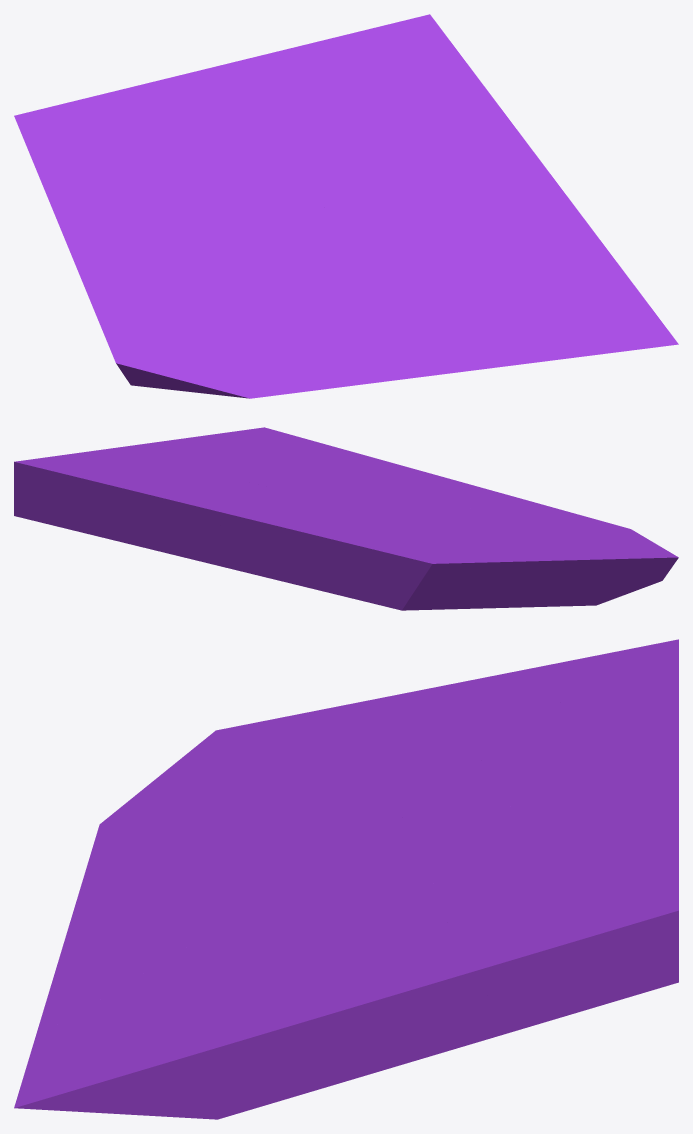
Rendered from Window_140_3_chunks.fbx.
The picture shows the model from 3 angles, top to bottom: view 1: azimuth 30°, elevation 25°; view 2: azimuth 150°, elevation 25°; view 3: azimuth 270°, elevation 25°; orthographic projection. The views are drawn at different scales.
Visible parts, largest first — view 1: Window_140_3_12, Window_140_3_8, Window_140_3_4, Window_140_3_1, Window_140_3_9, Window_140_3_6, Window_140_3_7, Window_140_3_2, Window_140_3_5, Window_140_3_11, Window_140_3_10; view 2: Window_140_3_9, Window_140_3_1, Window_140_3_12, Window_140_3_10, Window_140_3_8, Window_140_3_4, Window_140_3_6, Window_140_3_7, Window_140_3_2, Window_140_3_5, Window_140_3_11, Window_140_3_3; view 3: Window_140_3_8, Window_140_3_12, Window_140_3_7, Window_140_3_1, Window_140_3_4, Window_140_3_6, Window_140_3_9, Window_140_3_10, Window_140_3_2, Window_140_3_5, Window_140_3_11.
Boxes of the visible parts, box(x1,y1,x2,y2) form: Window_140_3_12: box(217, 17, 502, 175); Window_140_3_8: box(406, 160, 678, 357); Window_140_3_4: box(105, 285, 332, 398); Window_140_3_1: box(24, 140, 202, 336); Window_140_3_9: box(14, 66, 240, 189); Window_140_3_6: box(291, 199, 424, 388); Window_140_3_7: box(340, 111, 539, 234); Window_140_3_2: box(171, 187, 313, 313); Window_140_3_5: box(374, 289, 573, 382); Window_140_3_11: box(180, 152, 381, 224); Window_140_3_10: box(416, 14, 482, 84); Window_140_3_9: box(214, 514, 456, 610); Window_140_3_1: box(415, 532, 652, 609); Window_140_3_12: box(28, 451, 321, 534); Window_140_3_10: box(14, 454, 228, 568); Window_140_3_8: box(125, 427, 369, 482); Window_140_3_4: box(479, 509, 678, 585); Window_140_3_6: box(313, 481, 559, 509); Window_140_3_7: box(88, 446, 312, 494); Window_140_3_2: box(381, 508, 517, 532); Window_140_3_5: box(355, 452, 523, 499); Window_140_3_11: box(255, 484, 411, 530); Window_140_3_3: box(551, 568, 648, 606); Window_140_3_8: box(14, 914, 385, 1119); Window_140_3_12: box(424, 772, 678, 969); Window_140_3_7: box(314, 866, 493, 1085); Window_140_3_1: box(265, 648, 633, 781); Window_140_3_4: box(83, 721, 311, 878); Window_140_3_6: box(75, 836, 402, 931); Window_140_3_9: box(485, 639, 678, 795); Window_140_3_10: box(484, 901, 678, 1037); Window_140_3_2: box(218, 752, 491, 858); Window_140_3_5: box(35, 906, 212, 1037); Window_140_3_11: box(378, 758, 521, 892).
Bounding box in the file's own units: 949 × 291 × 839.
